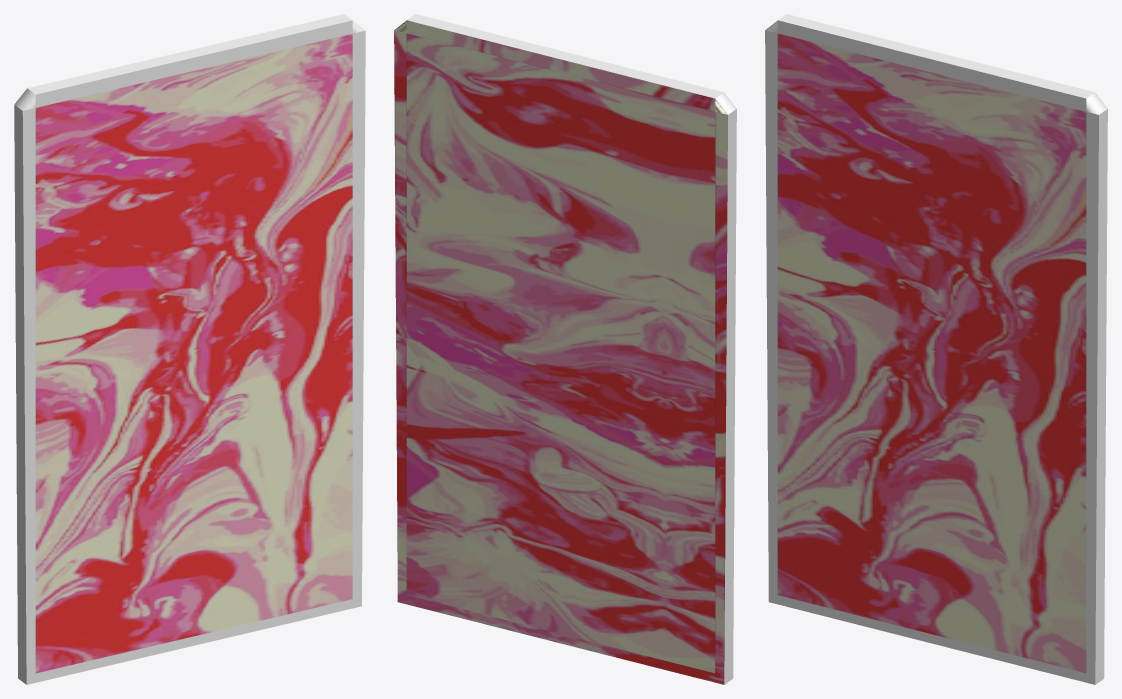
The model's file is k_tablo.obj.
The picture shows the model from 3 angles, left to right: view 1: azimuth 30°, elevation 25°; view 2: azimuth 150°, elevation 25°; view 3: azimuth 330°, elevation 25°; orthographic projection.
Parts seen in each view (by area): view 1: Plane.018_tablo_red, Plane.018_m_white; view 2: Plane.018_tablo_red, Plane.018_m_white; view 3: Plane.018_tablo_red, Plane.018_m_white.
Part boxes in pixels (x1,y1,x2,y2): Plane.018_tablo_red: (35, 33, 352, 673); Plane.018_m_white: (14, 14, 365, 684); Plane.018_tablo_red: (394, 20, 727, 684); Plane.018_m_white: (407, 14, 736, 684); Plane.018_tablo_red: (777, 33, 1086, 673); Plane.018_m_white: (765, 14, 1107, 684).
Bounding box in the file's own units: 10.25 × 16.96 × 0.6305.
